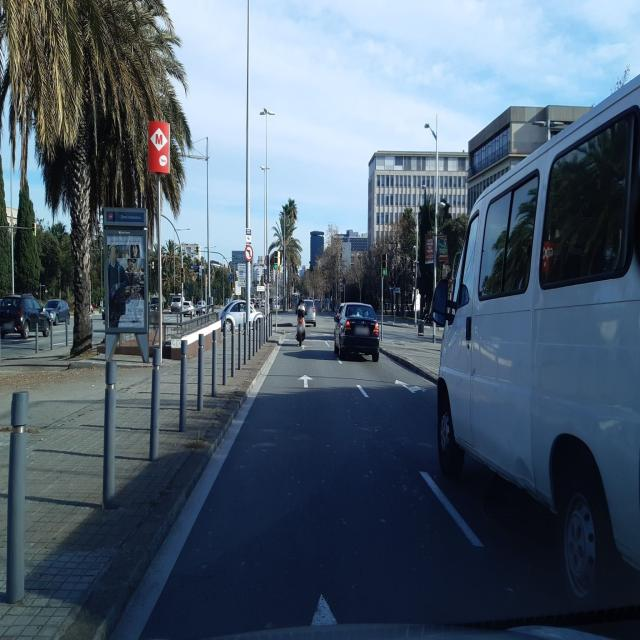bike: (295, 314, 306, 347)
car: (435, 60, 640, 612), (334, 300, 379, 362), (0, 291, 49, 340), (220, 298, 259, 333), (44, 297, 70, 326), (170, 295, 193, 316), (304, 298, 316, 328), (149, 294, 162, 315), (195, 299, 208, 315)
